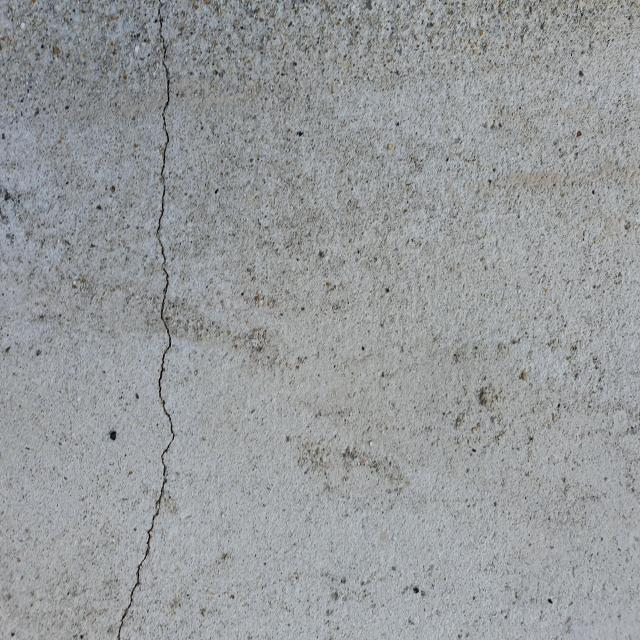SurfaceCrack: (102, 1, 217, 640)
